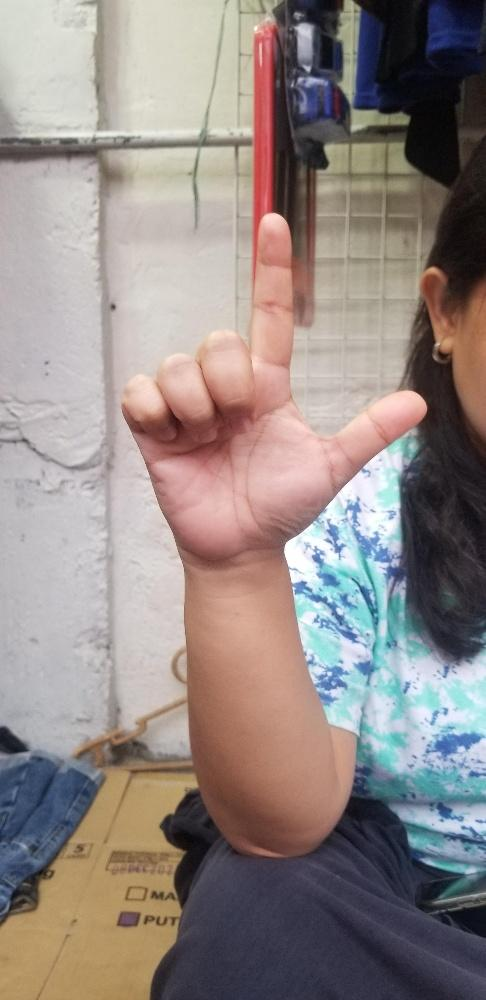l: (121, 213, 427, 555)
